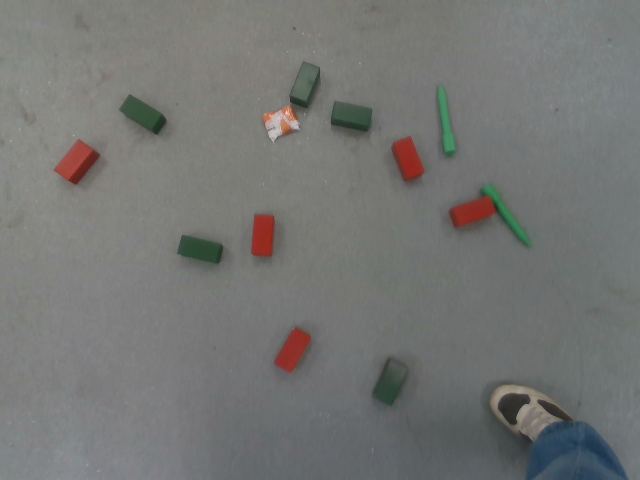Probe: (477, 181, 533, 251), (433, 83, 460, 157)
